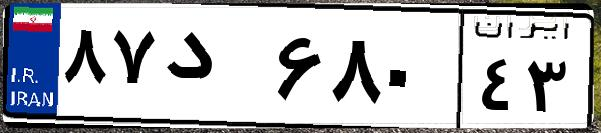0: (385, 28, 445, 110)
3: (525, 38, 570, 115)
4: (475, 38, 525, 113)
6: (270, 28, 330, 110)
7: (110, 28, 158, 98)
8: (330, 28, 385, 110), (57, 26, 110, 100)
د: (158, 20, 270, 120)
